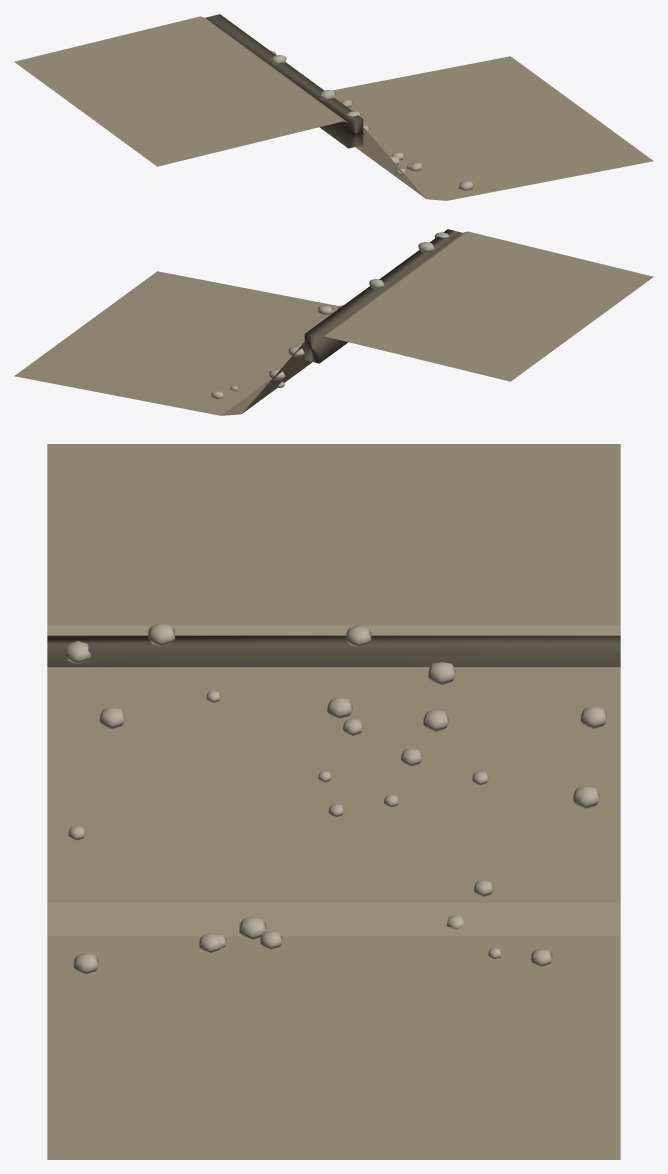
Rendered from lake-terrace-shelf-2.glb.
3 renders of one model, top to bottom at view 1: azimuth 30°, elevation 25°; view 2: azimuth 150°, elevation 25°; view 3: azimuth 270°, elevation 25°, orthographic. The views are drawn at different scales.
Parts seen in each view (by area): view 1: lake-terrace-shelf-2; view 2: lake-terrace-shelf-2; view 3: lake-terrace-shelf-2.
Boxes of the visible parts, x1,y1,x2,y2 form: lake-terrace-shelf-2: (14,14,653,200); lake-terrace-shelf-2: (14,229,653,415); lake-terrace-shelf-2: (47,444,620,1159).
Bounding box in the file's own units: 4 × 0.9376 × 2.
